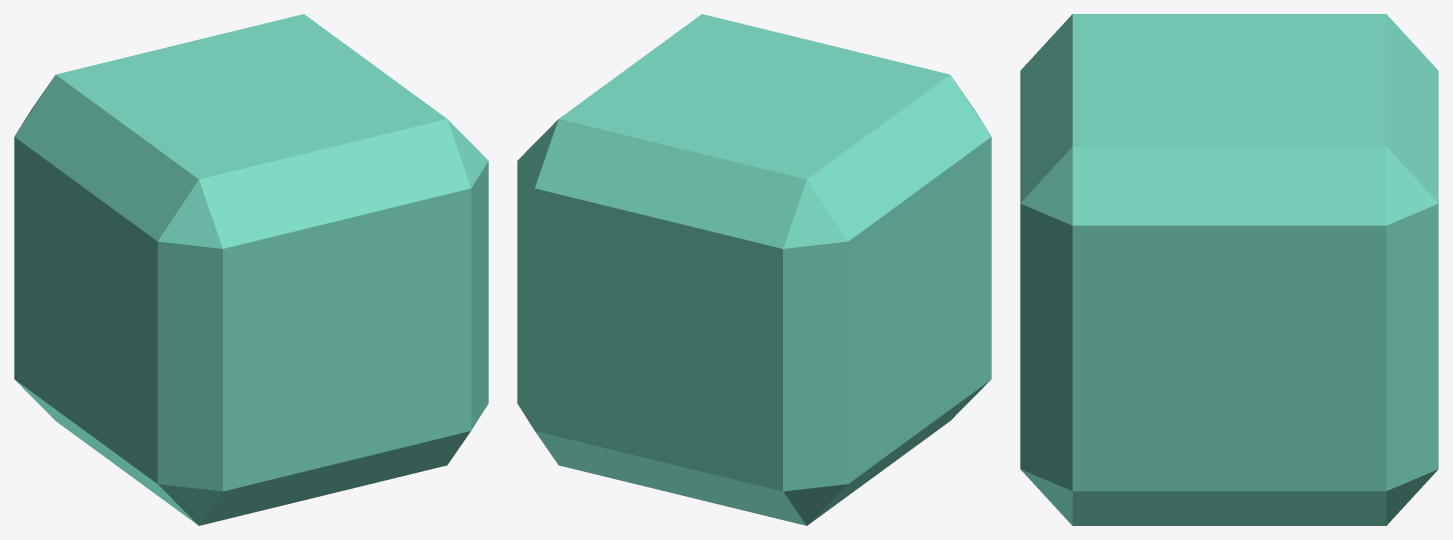
The model's file is blob.obj.
The picture shows the model from 3 angles, left to right: view 1: azimuth 30°, elevation 25°; view 2: azimuth 150°, elevation 25°; view 3: azimuth 270°, elevation 25°; orthographic projection. The views are drawn at different scales.
Parts seen in each view (by area): view 1: beveled_cuboid; view 2: beveled_cuboid; view 3: beveled_cuboid.
Boxes of the visible parts, <box> form: beveled_cuboid: <box>14,14,488,525</box>; beveled_cuboid: <box>517,14,991,525</box>; beveled_cuboid: <box>1020,14,1438,525</box>.
Bounding box in the file's own units: 0.625 × 0.625 × 0.625.
Materials: 2 (2 with a texture image).
